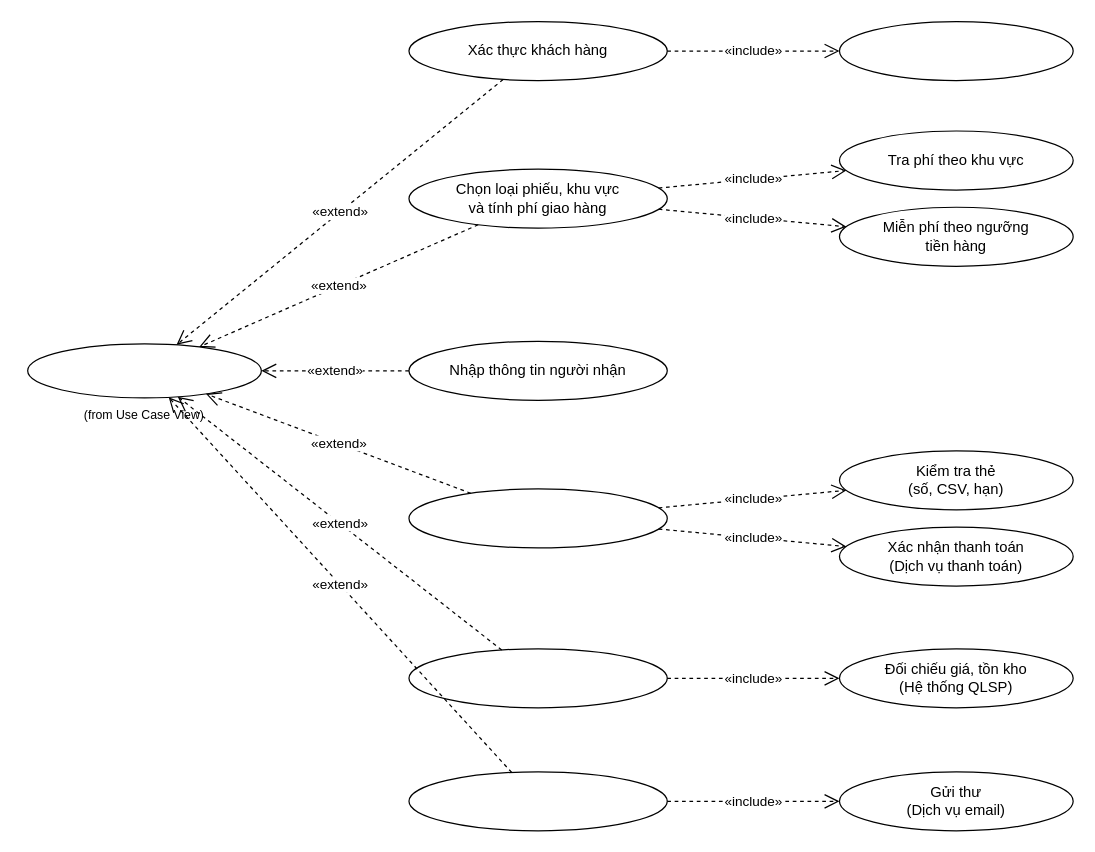
Some shapes in this 1095 by 852 pixel diagram are drawn without their labels. Here are the shapes that lost their labels. From the top down, the box of each, then its label:
(838, 20, 1073, 81): Đăng nhập
(26, 343, 261, 398): Đặt hàng và tính tiền
(408, 488, 667, 548): Thanh toán thẻ tín dụng
(408, 648, 667, 708): Ghi nhận đơn hàng
(408, 771, 667, 831): Gửi email xác nhận
